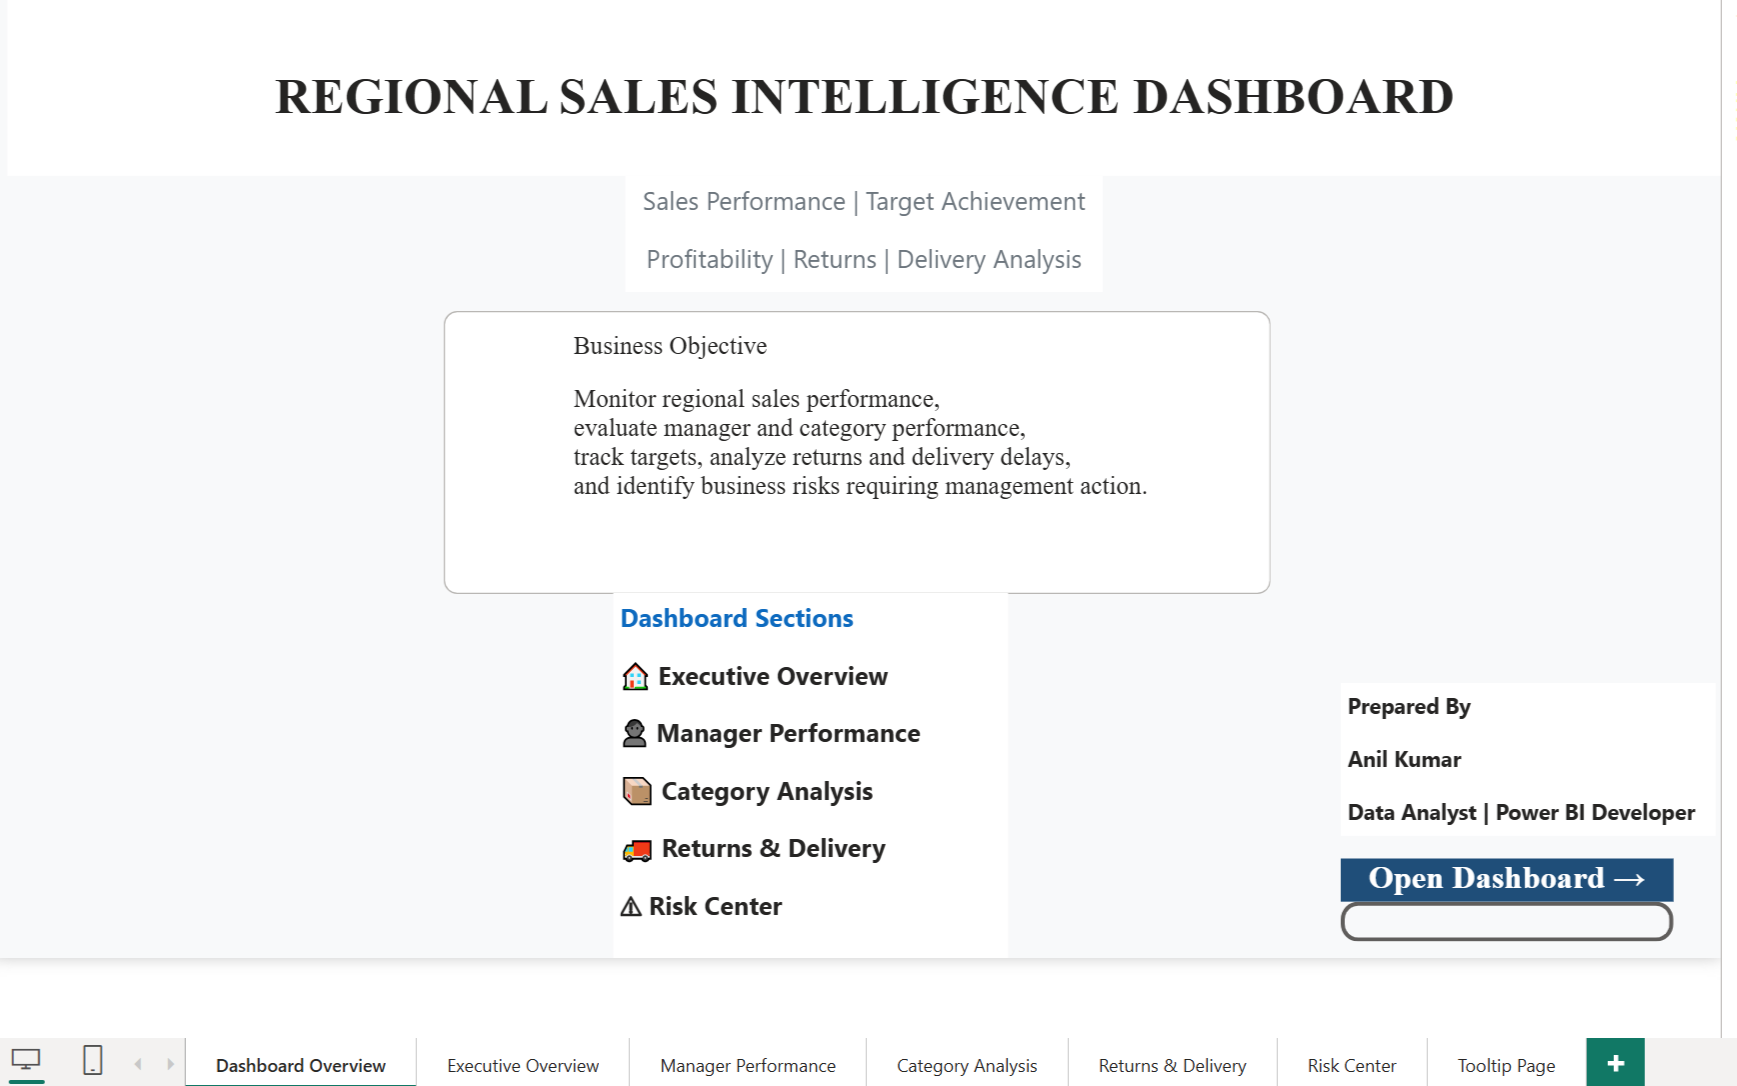

Layout of this report page (visuals, bound fields, positions):
{"tool":"powerbi","page":{"name":"Dashboard Overview","canvas":[1280,720],"ordinal":0},"visuals":[{"type":"textbox","box":[9.5,0,1270.9,140.3],"z":0},{"type":"textbox","box":[468.6,140.3,354.2,85.8],"z":1000},{"type":"shape","box":[333.7,239.7,613,209.8],"z":2000},{"type":"textbox","box":[425,250.6,495.8,186.6],"z":3000},{"type":"textbox","box":[459.1,449.5,292.9,271.1],"z":4000},{"type":"textbox","box":[998.5,516.3,277.9,113.1],"z":5000},{"type":"actionButton","title":"Open Dashboard →","box":[998.5,645.7,246.6,61.3],"z":6000}]}

Visuals, with their boxes on the page's 1280x720 design canvas (x1, y1, x2, y2). These are canvas units, not pixel positions in the 1737x1086 screenshot, which may show the page scaled, cropped or inside an application window:
textbox: l=10, t=0, r=1280, b=140
textbox: l=469, t=140, r=823, b=226
shape: l=334, t=240, r=947, b=450
textbox: l=425, t=251, r=921, b=437
textbox: l=459, t=450, r=752, b=721
textbox: l=998, t=516, r=1276, b=629
"Open Dashboard →" actionButton: l=998, t=646, r=1245, b=707
